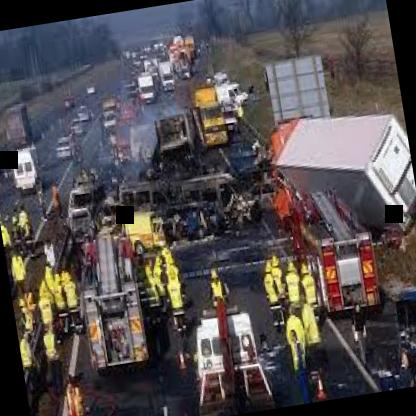accident: (259, 85, 416, 265), (104, 91, 268, 261), (52, 160, 170, 292)
